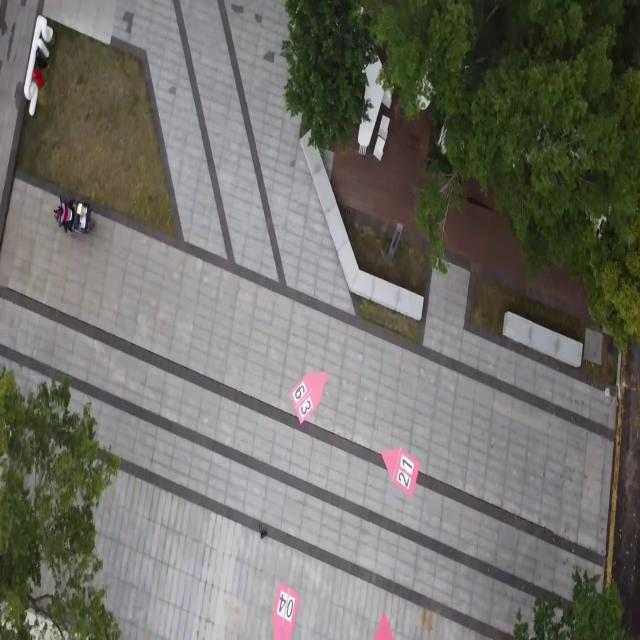-sign-: (378, 442, 427, 502), (290, 369, 328, 426), (273, 583, 300, 639), (374, 611, 395, 640)
